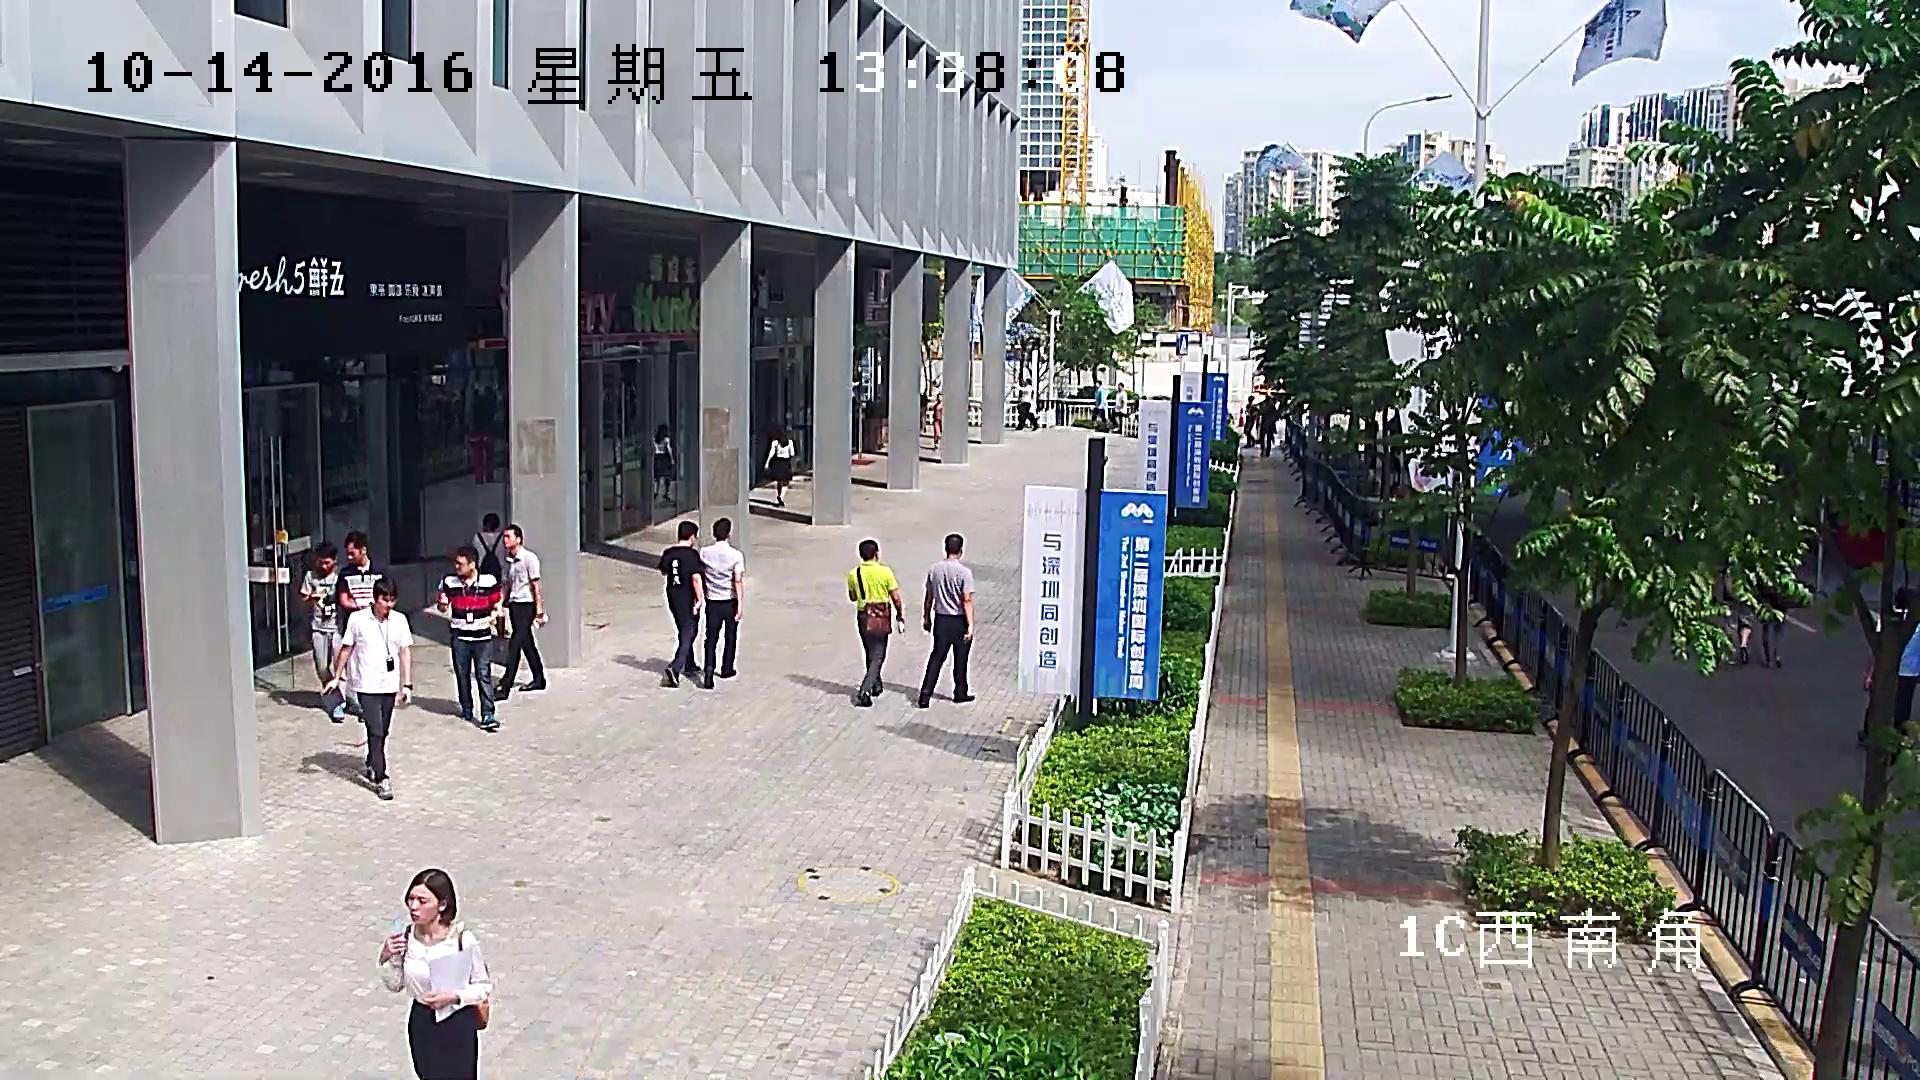person: (376, 867, 494, 1079), (319, 577, 415, 801), (434, 545, 502, 730), (917, 533, 976, 708), (1855, 585, 1919, 746), (493, 524, 549, 701), (847, 539, 905, 707), (336, 530, 386, 723), (298, 542, 345, 720), (699, 517, 745, 689), (659, 520, 703, 688), (471, 512, 505, 643), (763, 424, 795, 506), (653, 422, 674, 499), (1758, 620, 1785, 668), (1256, 394, 1277, 457), (1015, 377, 1038, 431), (1108, 381, 1128, 434), (1240, 395, 1258, 448), (1737, 613, 1752, 664), (1090, 379, 1106, 424), (932, 392, 943, 449)
